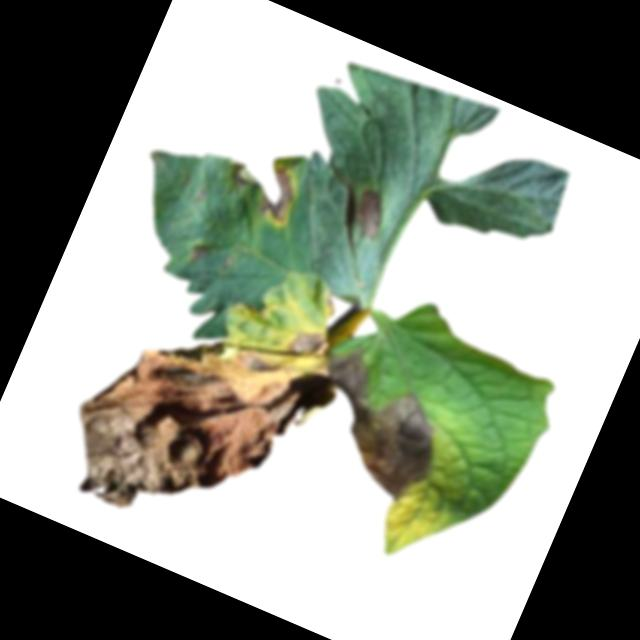Early_blight: (49, 296, 309, 557), (287, 343, 464, 509), (216, 147, 307, 230), (348, 187, 394, 241), (285, 321, 331, 363), (187, 237, 214, 264)
